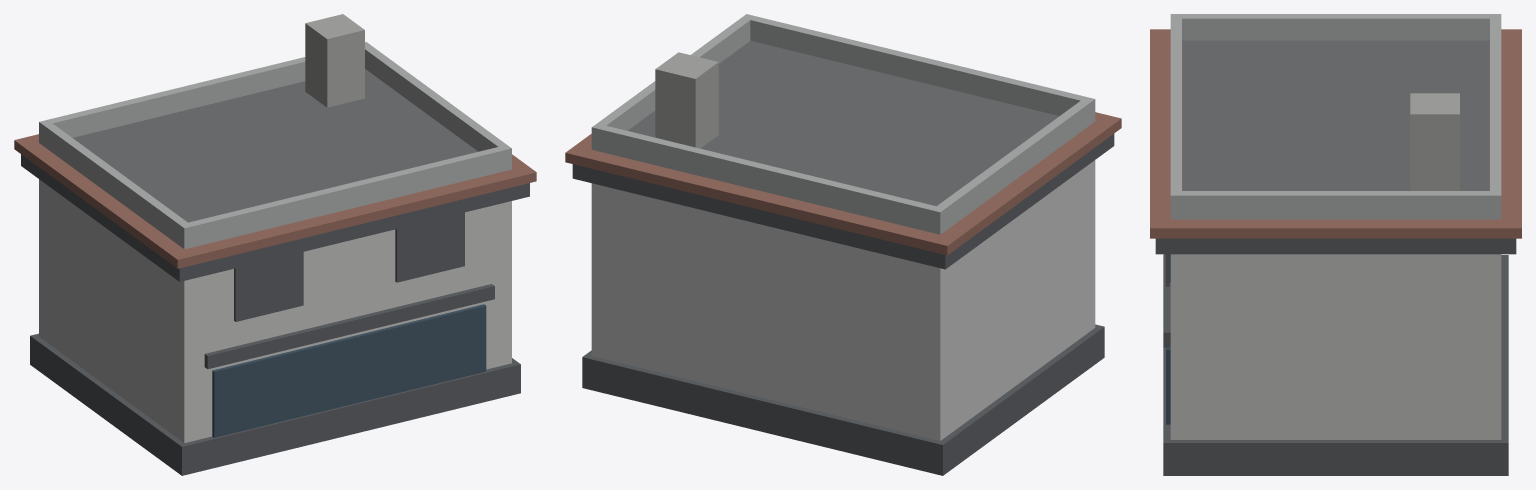
File: bld_shop.glb
The picture shows the model from 3 angles, left to right: view 1: azimuth 30°, elevation 25°; view 2: azimuth 150°, elevation 25°; view 3: azimuth 270°, elevation 25°; orthographic projection. The views are drawn at different scales.
Visible parts, largest first — view 1: bld_shop.glb; view 2: bld_shop.glb; view 3: bld_shop.glb.
Part boxes in pixels (x1=…): bld_shop.glb: x1=14, y1=14, x2=536, y2=475; bld_shop.glb: x1=565, y1=14, x2=1121, y2=475; bld_shop.glb: x1=1150, y1=14, x2=1521, y2=475.
Size of the model in its own units: 14.25 by 11.2 by 11.25.
